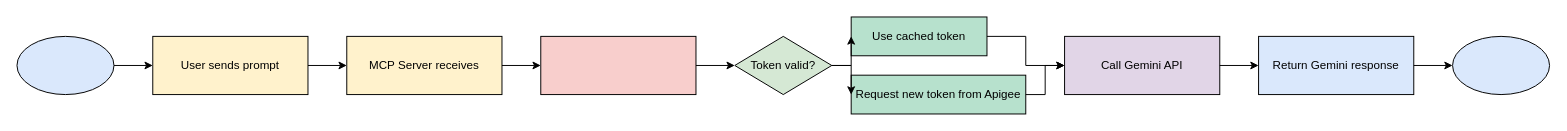
This 1567x131 diagram has some shape labels left out. Here are the shapes that lost their labels. From the top down, the centre of each, then its label:
At [65,65]: "Start".
At [618,65]: "Check token cache".
At [1501,65]: "End".
